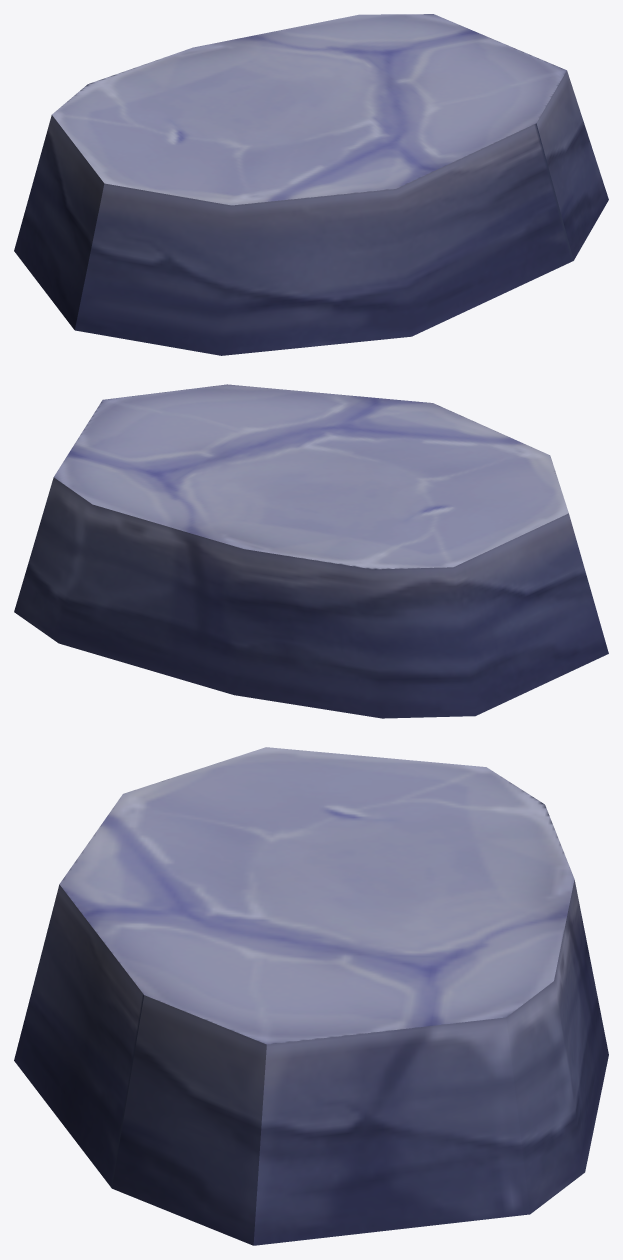
The model's file is Snake_stone_01.fbx.
The picture shows the model from 3 angles, top to bottom: view 1: azimuth 30°, elevation 25°; view 2: azimuth 150°, elevation 25°; view 3: azimuth 270°, elevation 25°; orthographic projection. The views are drawn at different scales.
Parts seen in each view (by area): view 1: Snake_stone_01; view 2: Snake_stone_01; view 3: Snake_stone_01.
Part boxes in pixels (x1=…): Snake_stone_01: x1=14, y1=14, x2=608, y2=355; Snake_stone_01: x1=14, y1=384, x2=608, y2=718; Snake_stone_01: x1=14, y1=747, x2=608, y2=1245.
Size of the model in its own units: 146 by 35.14 by 107.
